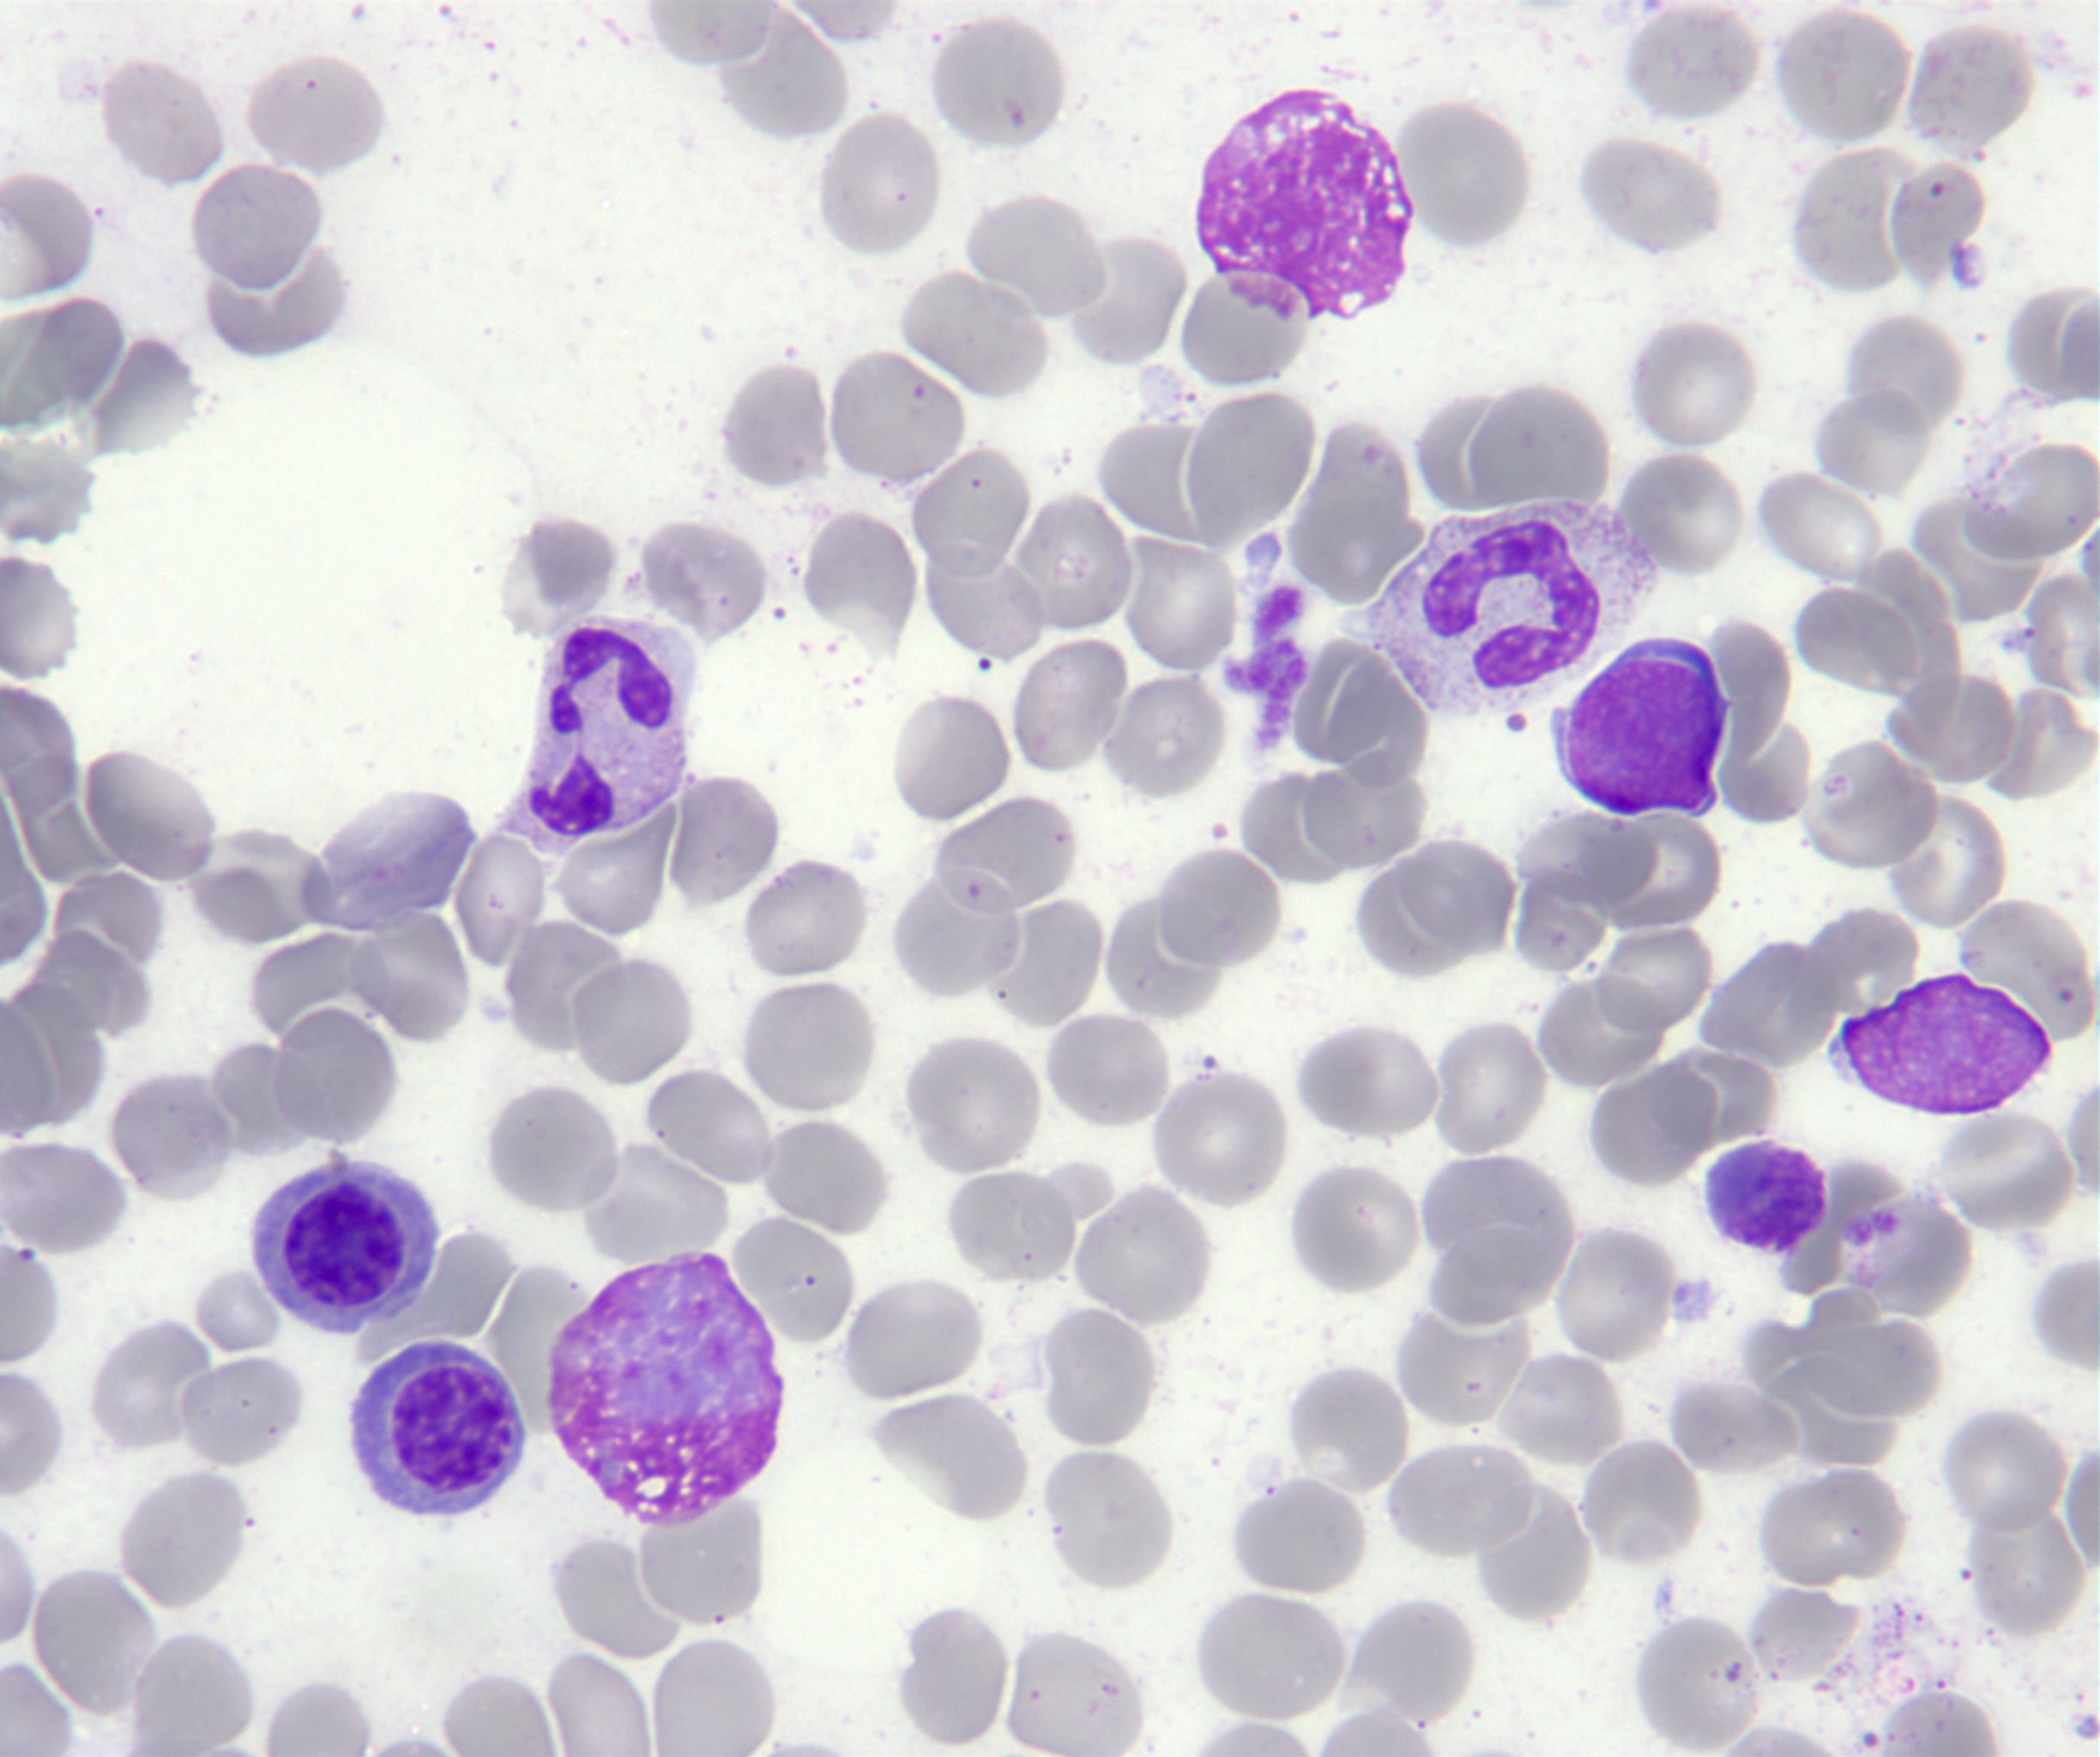23: (253, 1164, 438, 1335), (352, 1342, 525, 1516)
32: (1828, 972, 2051, 1117), (1551, 637, 1730, 817)
5: (1334, 499, 1659, 719)
6: (497, 618, 696, 851)
x: (548, 1255, 783, 1525), (1197, 89, 1415, 321), (1708, 1139, 1826, 1253)
